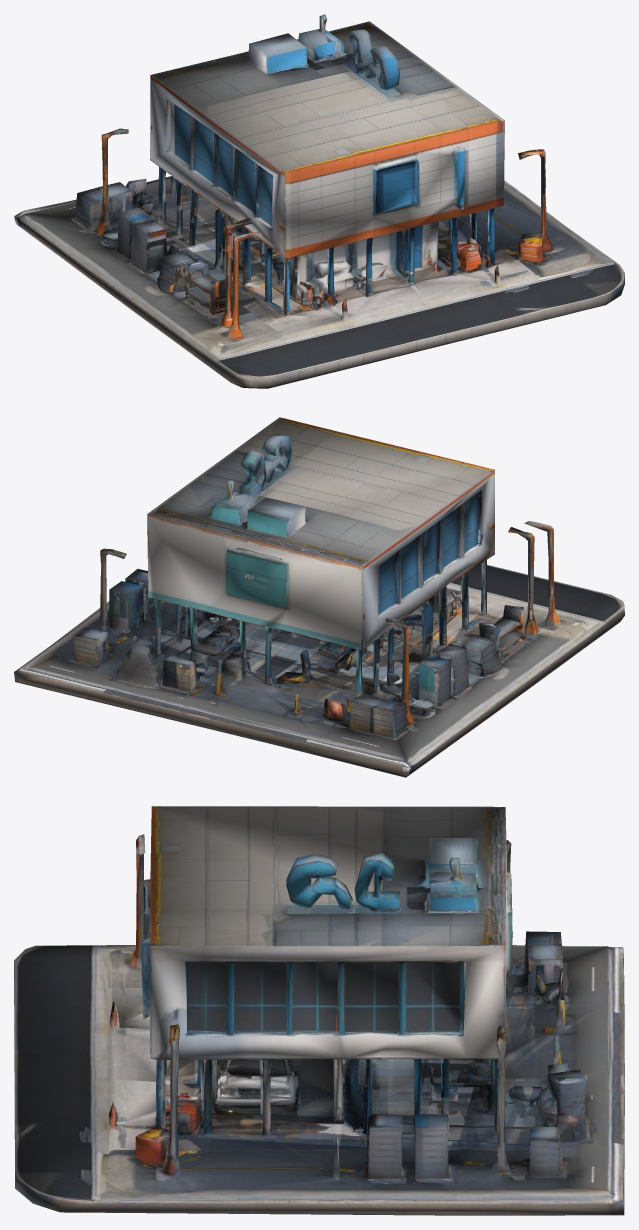
Rendered from meshy-building-c.glb.
The picture shows the model from 3 angles, top to bottom: view 1: azimuth 30°, elevation 25°; view 2: azimuth 150°, elevation 25°; view 3: azimuth 270°, elevation 25°; orthographic projection. The views are drawn at different scales.
Size of the model in its own units: 2.01 by 0.959 by 2.01.
1 material, 1 textured.
